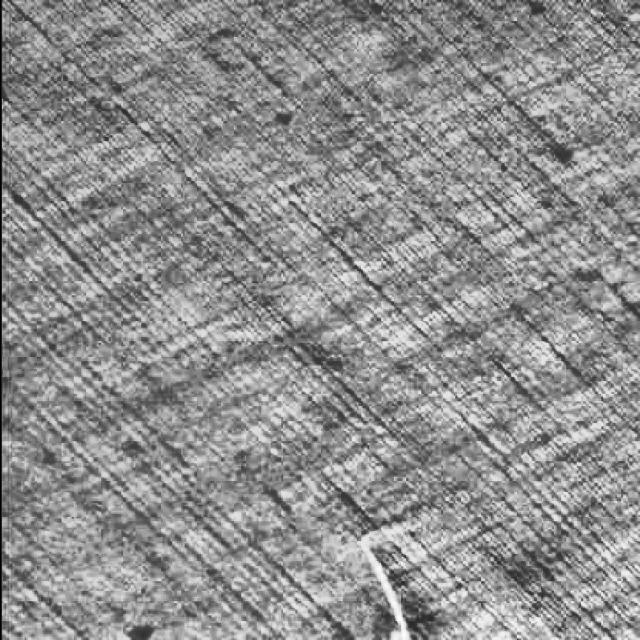objects: (346, 505, 428, 640)
